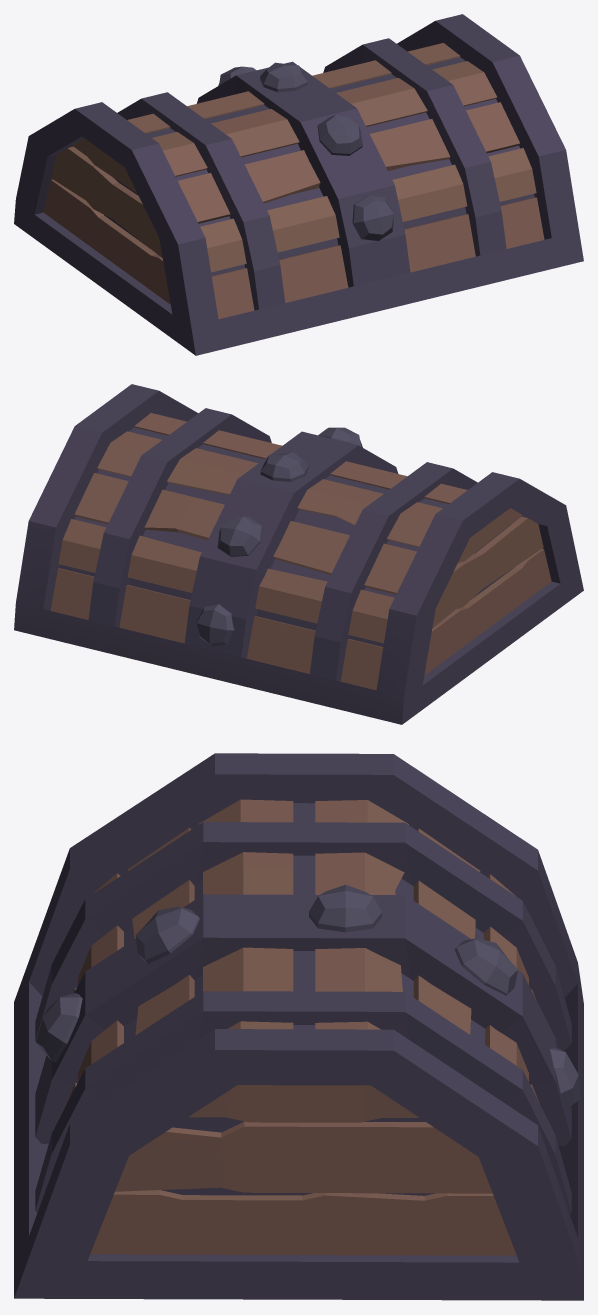
Rendered from Chest_lid.fbx.
3 renders of one model, top to bottom at view 1: azimuth 30°, elevation 25°; view 2: azimuth 150°, elevation 25°; view 3: azimuth 270°, elevation 25°, orthographic. The views are drawn at different scales.
Parts seen in each view (by area): view 1: Chest_lid; view 2: Chest_lid; view 3: Chest_lid.
Boxes of the visible parts, <box> form: Chest_lid: <box>14,14,583,355</box>; Chest_lid: <box>14,384,583,724</box>; Chest_lid: <box>14,753,583,1300</box>.
Size of the model in its own units: 348 by 143 by 283.
